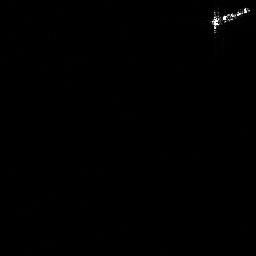ship: (212, 7, 251, 25)
